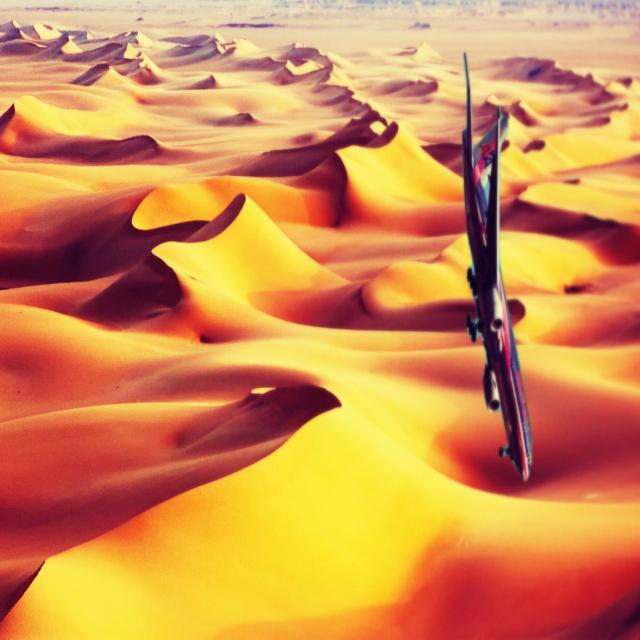airplane: (461, 51, 533, 483)
